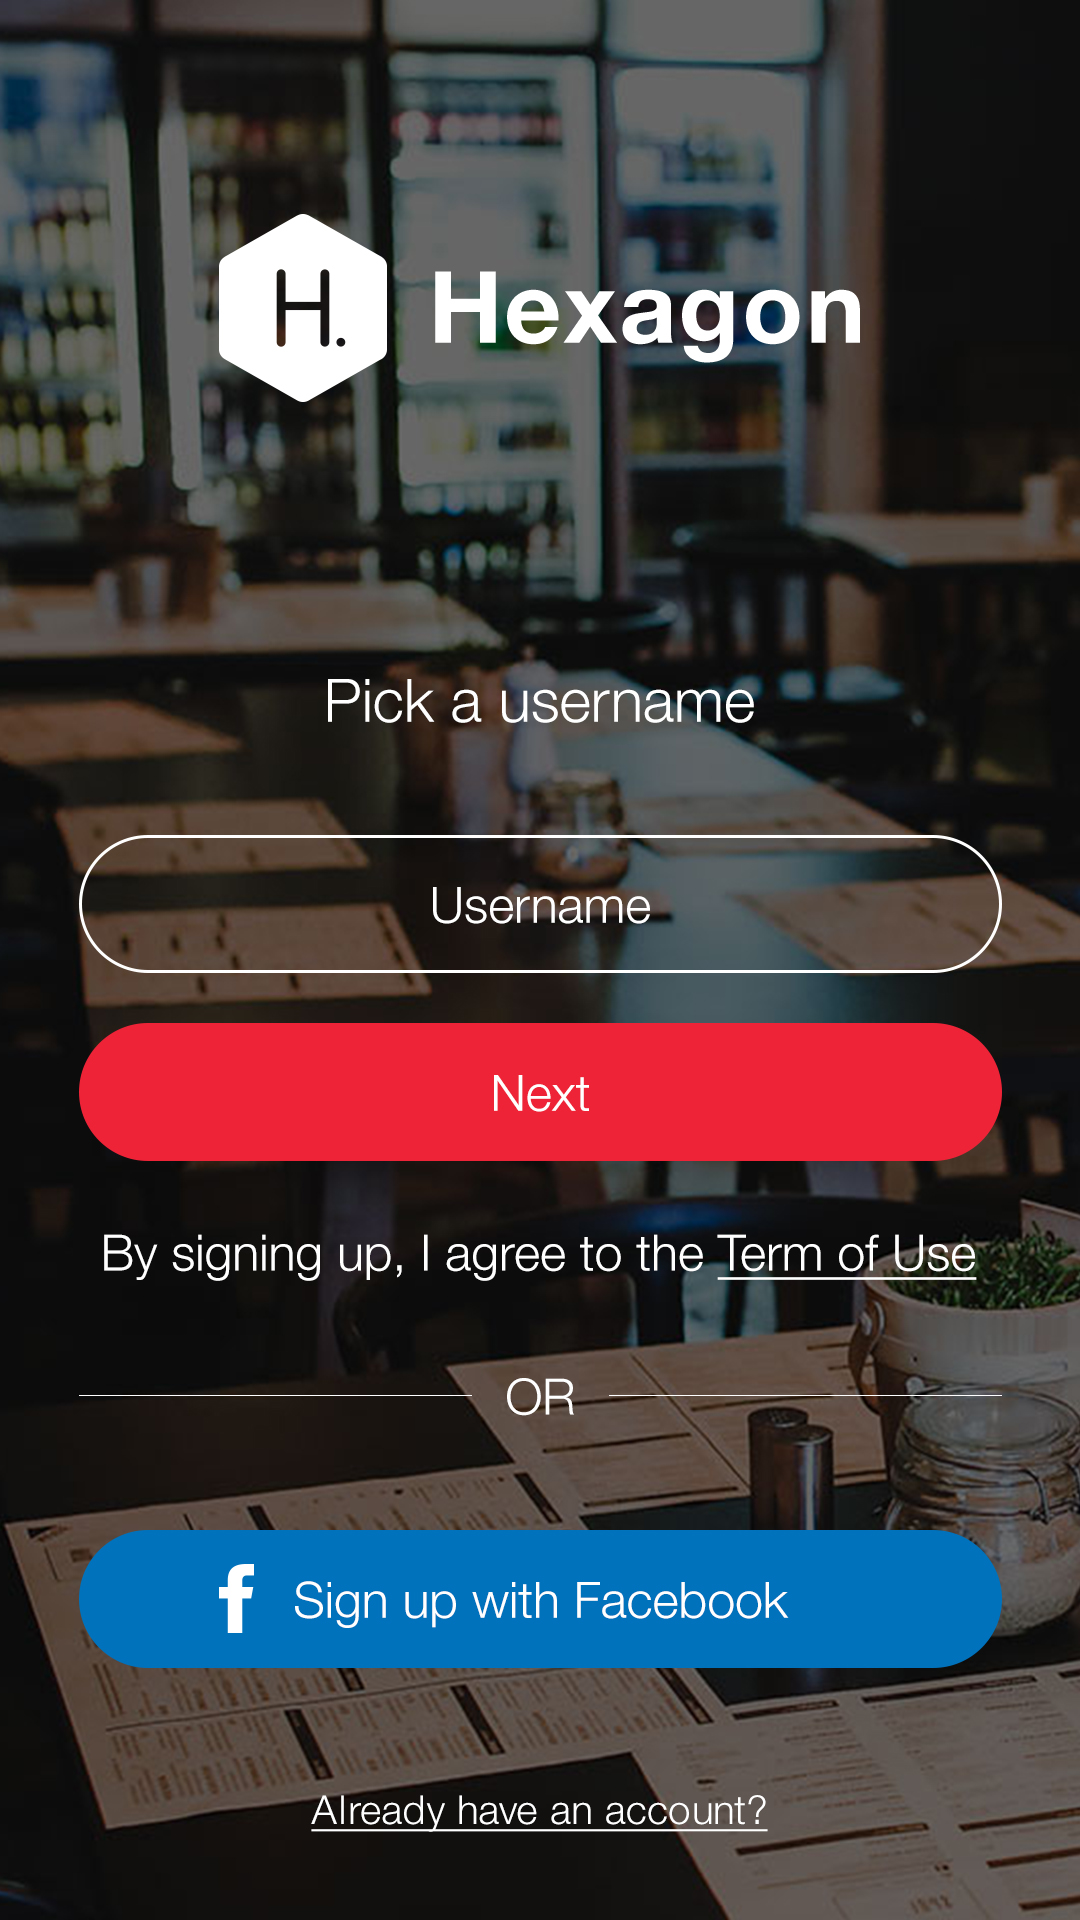BackgroundImage: (1, 1, 1080, 1920)
EditText: (79, 835, 1004, 975)
Image: (219, 214, 388, 404)
Text: (104, 1233, 977, 1283), (435, 272, 861, 364), (328, 678, 756, 725), (311, 1793, 769, 1833), (433, 887, 651, 926), (506, 1377, 575, 1418)
TextButton: (79, 1022, 1004, 1162), (79, 1530, 1002, 1669)
